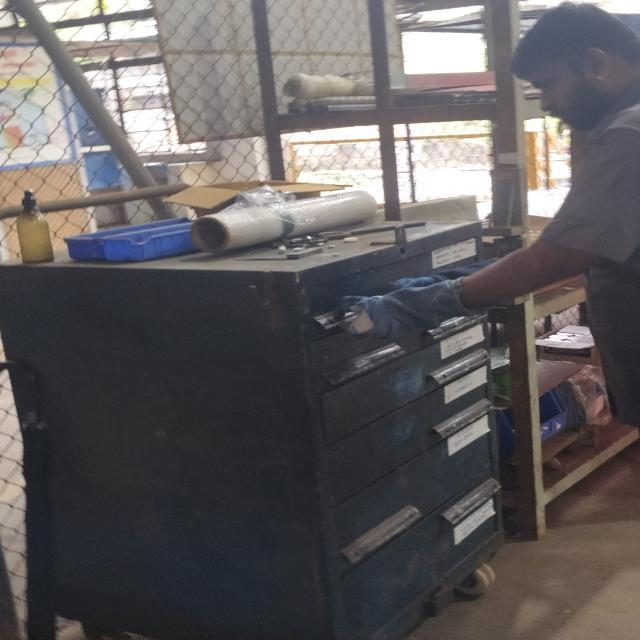Gloves-Detection: (356, 271, 467, 347)
